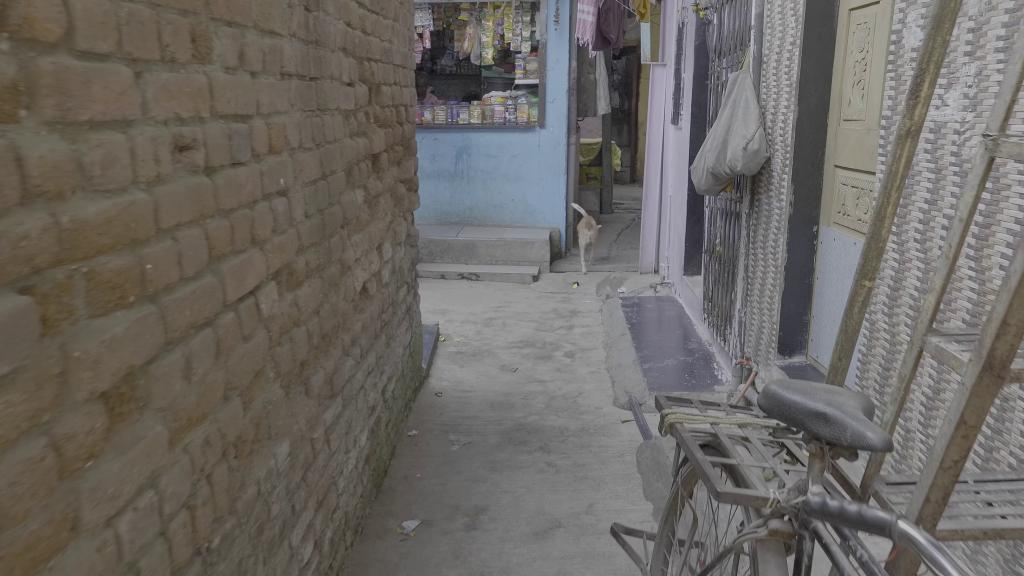garbage: (687, 60, 777, 201)
